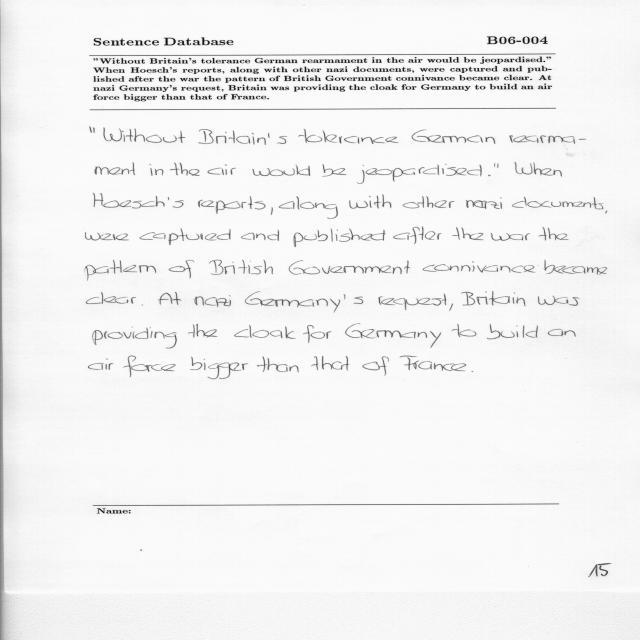word: (245, 291, 364, 313), (357, 164, 482, 184), (345, 324, 441, 348), (289, 260, 410, 275), (93, 327, 177, 348), (293, 229, 386, 247), (139, 228, 231, 245), (299, 129, 399, 144), (198, 129, 287, 145), (85, 260, 156, 280), (93, 194, 184, 209), (279, 196, 338, 219), (423, 261, 536, 273), (104, 127, 186, 143), (190, 357, 248, 379), (198, 196, 266, 214), (412, 130, 496, 144), (379, 294, 447, 311), (123, 356, 176, 377), (512, 197, 603, 209), (461, 291, 525, 307), (400, 356, 466, 371), (209, 260, 273, 275), (544, 260, 607, 275), (234, 325, 296, 339), (393, 227, 442, 244), (487, 324, 538, 339), (515, 162, 562, 177), (510, 135, 587, 144), (257, 357, 299, 373), (253, 165, 311, 176), (349, 194, 391, 209), (403, 196, 454, 208), (86, 292, 136, 304), (362, 356, 389, 376), (312, 356, 350, 370), (95, 162, 135, 175), (303, 325, 331, 343), (169, 260, 194, 278), (194, 295, 231, 307), (188, 324, 218, 338), (241, 230, 279, 241), (538, 296, 579, 306), (452, 227, 483, 240), (466, 198, 502, 209), (170, 163, 200, 176), (539, 227, 569, 240), (86, 233, 129, 241), (322, 164, 347, 177), (452, 324, 477, 337), (491, 233, 531, 241), (88, 358, 114, 370), (158, 292, 181, 305), (208, 165, 237, 175), (548, 329, 576, 337), (150, 164, 164, 176), (449, 304, 453, 312), (90, 127, 95, 133), (494, 163, 499, 168), (271, 207, 273, 215), (606, 210, 608, 214), (488, 175, 490, 177), (472, 371, 474, 372), (142, 305, 143, 306)
